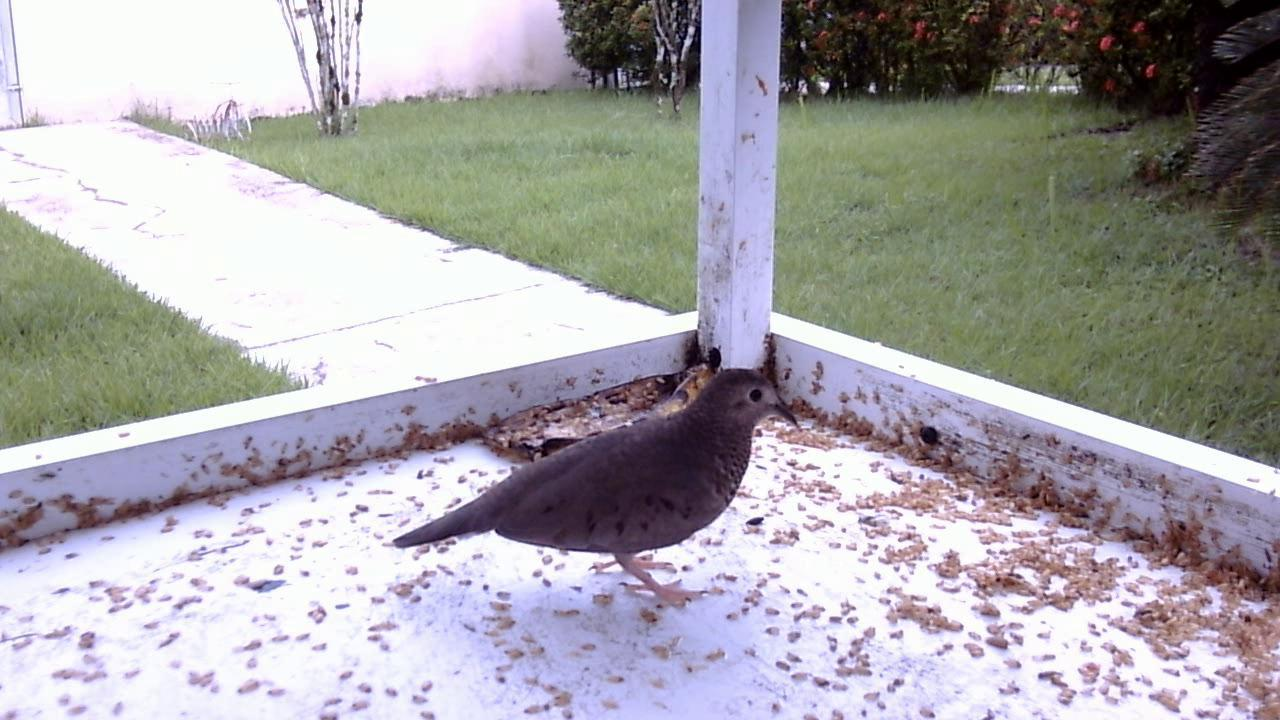rolinha: (381, 351, 799, 617)
